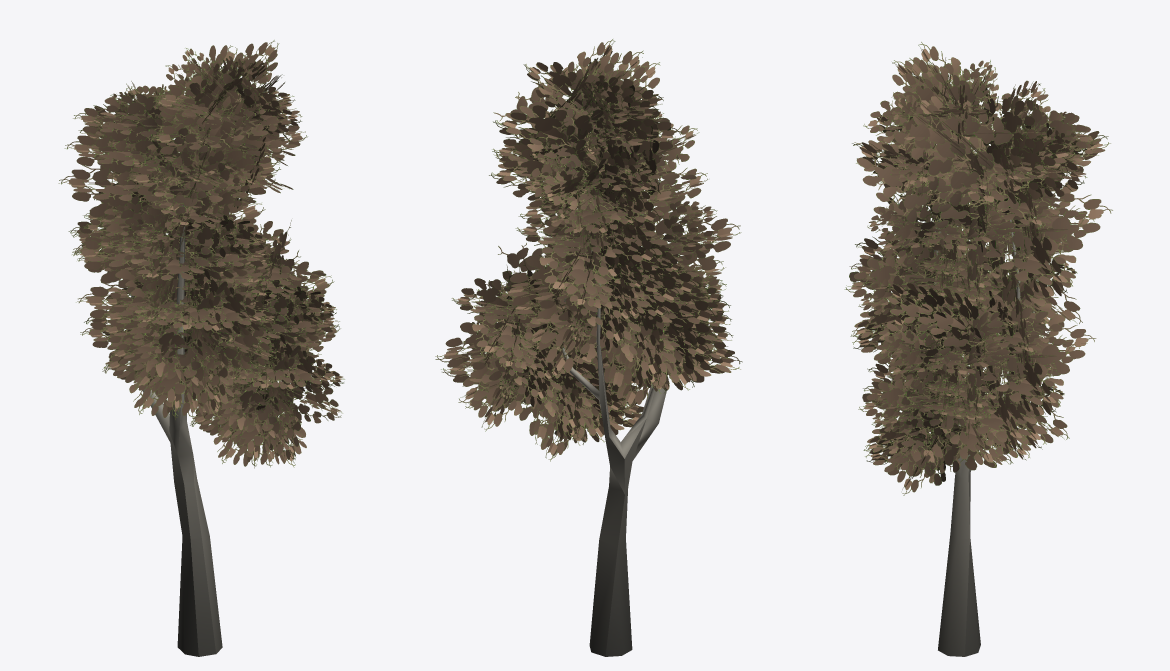
The model's file is Tree_2B.fbx.
3 renders of one model, left to right at view 1: azimuth 30°, elevation 25°; view 2: azimuth 150°, elevation 25°; view 3: azimuth 270°, elevation 25°, orthographic. The views are drawn at different scales.
Parts seen in each view (by area): view 1: Tree_2B; view 2: Tree_2B; view 3: Tree_2B.
Boxes of the visible parts, box(x1,y1,x2,y2) form: Tree_2B: box(58, 40, 344, 656); Tree_2B: box(435, 39, 742, 656); Tree_2B: box(844, 42, 1112, 656).
Size of the model in its own units: 616 by 1096 by 553.
